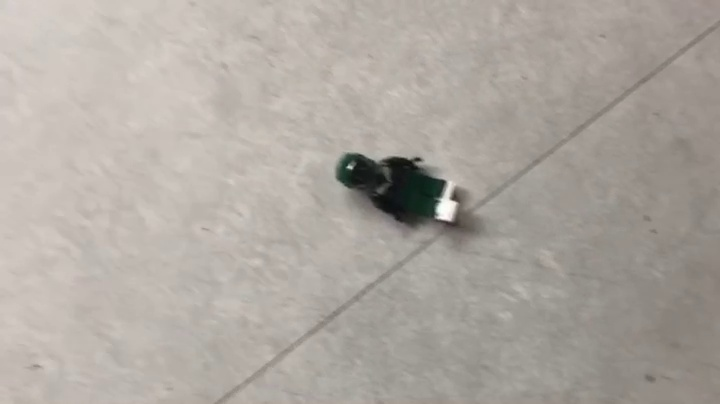people: (334, 152, 461, 229)
